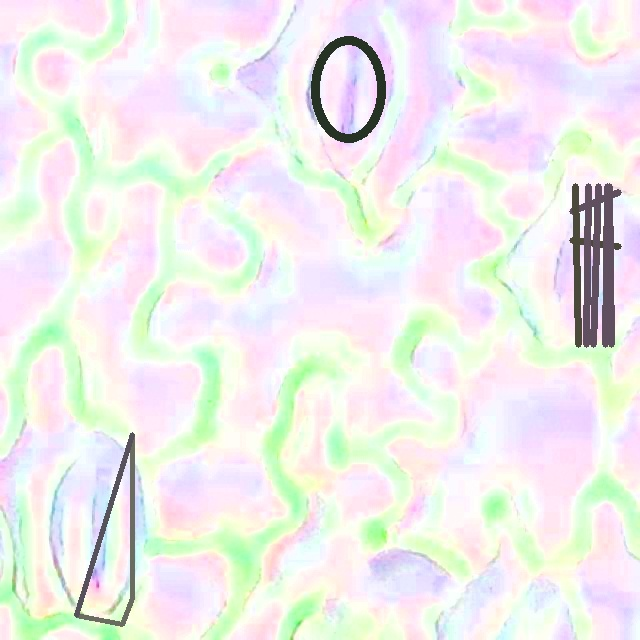open: (74, 433, 134, 626), (570, 184, 621, 346), (311, 35, 386, 143)
